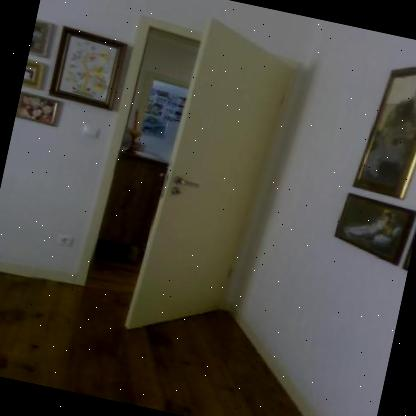door: (52, 3, 310, 365)
